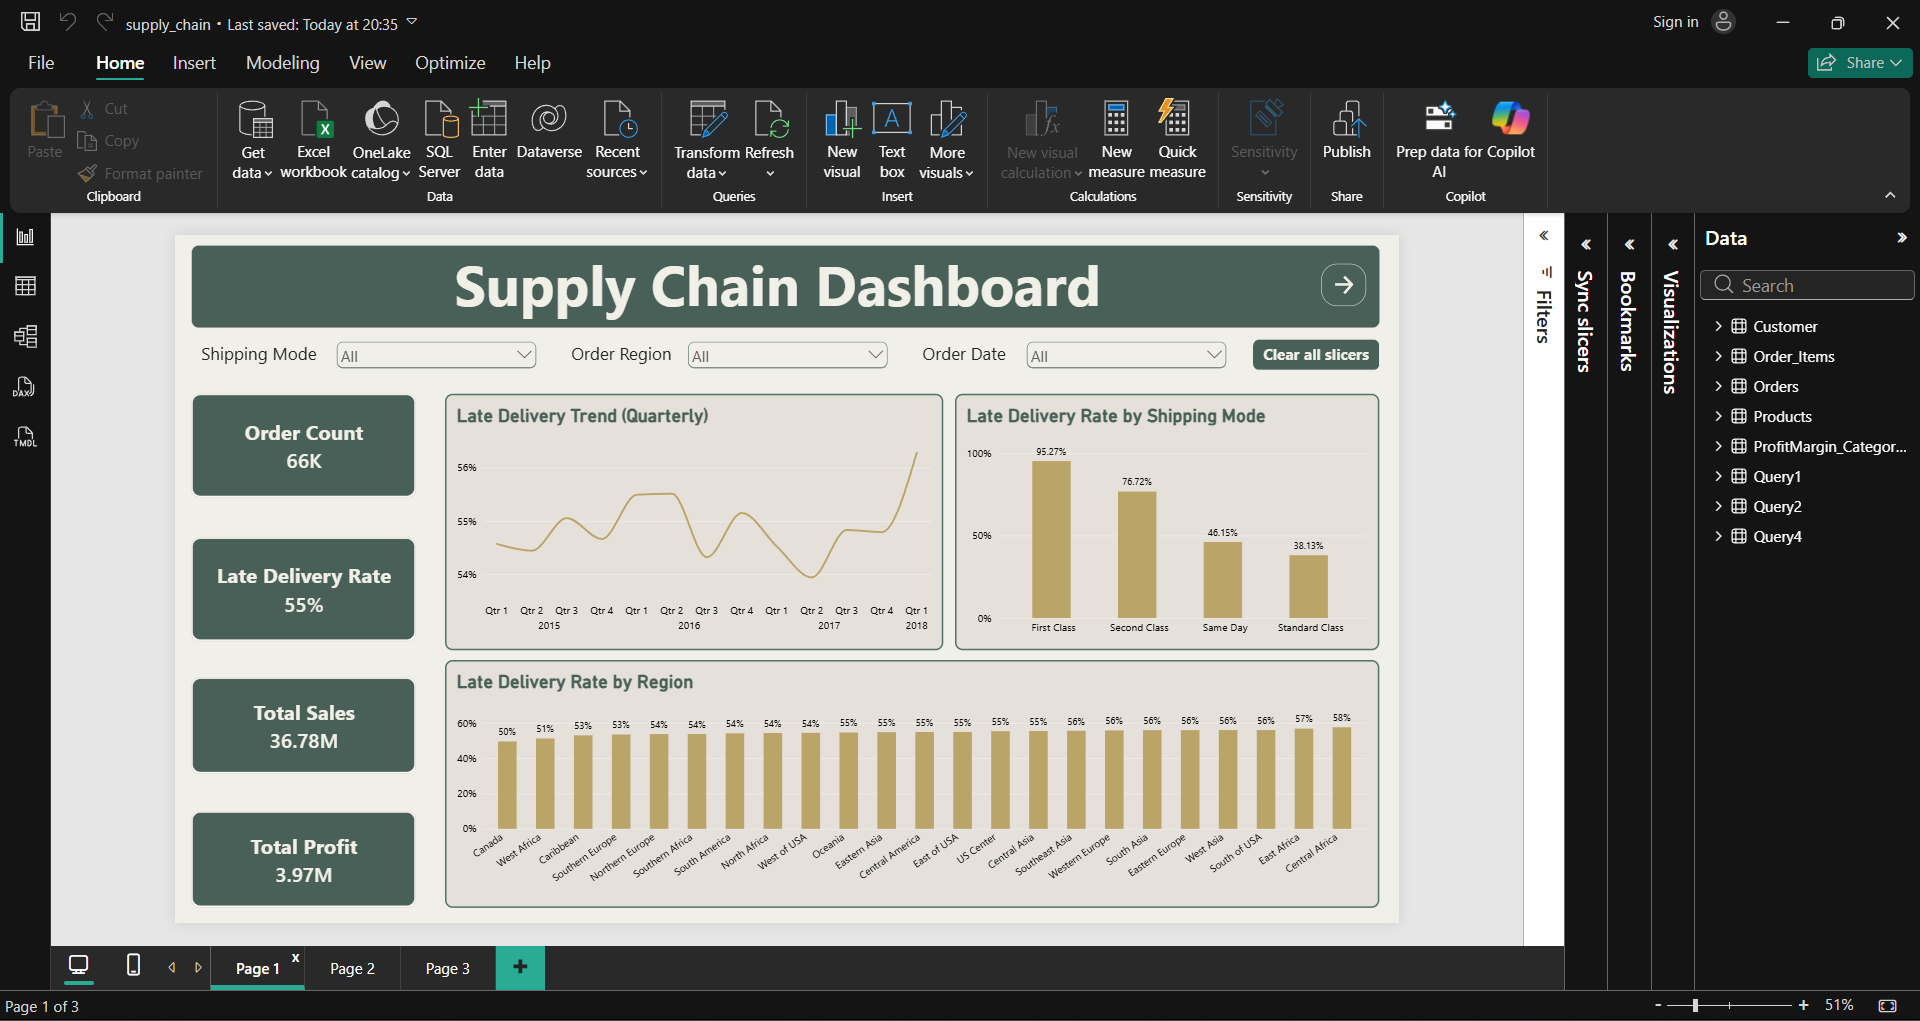

The dashboard page shown, as its layout file describes it:
{"tool":"powerbi","page":{"name":"Page 1","canvas":[1920,1080],"ordinal":0},"visuals":[{"type":"clusteredColumnChart","title":"Late Delivery Rate by Shipping Mode","fields":{"Category":["Orders.Shipping_Mode"],"Y":["Orders.Late Delivery Rate"]},"box":[1224.5,249,665.3,402],"z":0},{"type":"textbox","box":[25.8,14.7,1864.4,130.7],"z":1000},{"type":"lineChart","title":"Late Delivery Trend (Quarterly)","fields":{"Category":["Orders.order_date_DateOrders.Variation.Date Hierarchy.Year","Orders.order_date_DateOrders.Variation.Date Hierarchy.Quarter"],"Y":["Orders.Late Delivery Rate"]},"box":[424.5,249,781.6,402],"z":2000},{"type":"clusteredColumnChart","title":"Late Delivery Rate by Region","fields":{"Category":["Orders.Order_Region"],"Y":["Orders.Late Delivery Rate"]},"box":[424,666.9,1465.5,389],"z":3000},{"type":"cardVisual","fields":{"Data":["Orders.Order Count"]},"box":[25.8,248.5,353.1,163.3],"z":4000},{"type":"cardVisual","fields":{"Data":["Orders.Late Delivery Rate"]},"box":[25.5,474.5,353.1,163.3],"z":5000},{"type":"cardVisual","fields":{"Data":["Products.Total Sales"]},"box":[25.5,694.1,353.1,151],"z":6000},{"type":"cardVisual","fields":{"Data":["Orders.Total Profit"]},"box":[25.5,903.9,353.1,151],"z":7000},{"type":"slicer","fields":{"Values":["Orders.Shipping_Mode"]},"box":[249,163.3,322.4,65],"z":8000},{"type":"textbox","box":[40.8,167.3,183.7,57.1],"z":9000},{"type":"textbox","box":[621.6,166.7,166.7,58.8],"z":10000},{"type":"slicer","fields":{"Values":["Orders.Order_Region"]},"box":[800,162.7,322.4,65],"z":11000},{"type":"textbox","box":[1172.5,166.7,137.3,56.9],"z":12000},{"type":"slicer","fields":{"Values":["Orders.order_date_DateOrders.Variation.Date Hierarchy.Year","Orders.order_date_DateOrders.Variation.Date Hierarchy.Quarter","Orders.order_date_DateOrders.Variation.Date Hierarchy.Month","Orders.order_date_DateOrders.Variation.Date Hierarchy.Day"]},"box":[1331.4,162.7,322.4,65],"z":13000},{"type":"actionButton","box":[1798,45.1,70.6,66.7],"z":13001},{"type":"actionButton","box":[1690.2,162.7,200,50],"z":13002}]}

Visuals, with their boxes on the page's 1920x1080 design canvas (x1, y1, x2, y2). These are canvas units, not pixel positions in the 1920x1021 screenshot, which may show the page scaled, cropped or inside an application window:
"Late Delivery Rate by Shipping Mode" clusteredColumnChart: <box>1224,249,1890,651</box>
textbox: <box>26,15,1890,145</box>
"Late Delivery Trend (Quarterly)" lineChart: <box>424,249,1206,651</box>
"Late Delivery Rate by Region" clusteredColumnChart: <box>424,667,1890,1056</box>
cardVisual - Orders.Order Count: <box>26,248,379,412</box>
cardVisual - Orders.Late Delivery Rate: <box>26,474,379,638</box>
cardVisual - Products.Total Sales: <box>26,694,379,845</box>
cardVisual - Orders.Total Profit: <box>26,904,379,1055</box>
slicer - Orders.Shipping_Mode: <box>249,163,571,228</box>
textbox: <box>41,167,224,224</box>
textbox: <box>622,167,788,226</box>
slicer - Orders.Order_Region: <box>800,163,1122,228</box>
textbox: <box>1172,167,1310,224</box>
slicer - Orders.order_date_DateOrders.Variation.Date Hierarchy.Year x Orders.order_date_DateOrders.Variation.Date Hierarchy.Quarter: <box>1331,163,1654,228</box>
actionButton: <box>1798,45,1869,112</box>
actionButton: <box>1690,163,1890,213</box>
